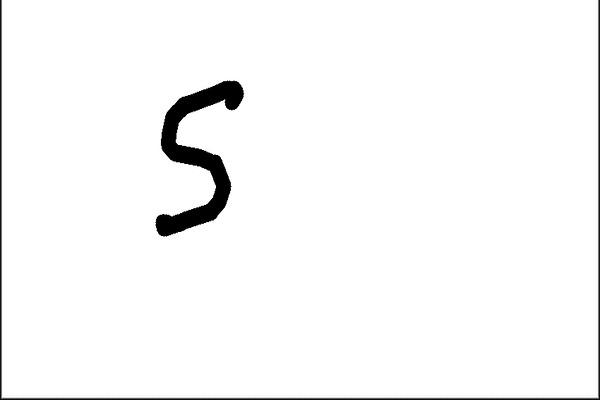S: (148, 70, 249, 241)
